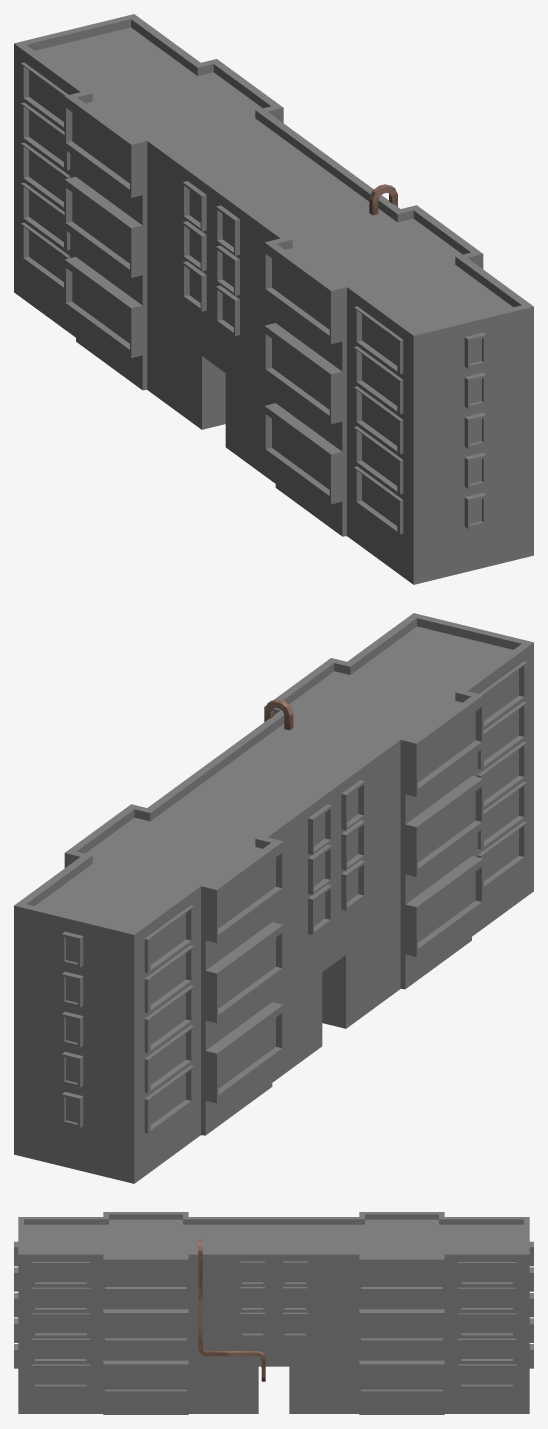
The model's file is Bloc wide.fbx.
3 renders of one model, top to bottom at view 1: azimuth 30°, elevation 25°; view 2: azimuth 150°, elevation 25°; view 3: azimuth 270°, elevation 25°, orthographic. The views are drawn at different scales.
Visible parts, largest first — view 1: Cube.003; view 2: Cube.003; view 3: Cube.003, Plane.006.
Part boxes in pixels (x1,y1,x2,y2): Cube.003: [14, 14, 533, 584]; Cube.003: [14, 613, 533, 1183]; Cube.003: [14, 1212, 533, 1414]; Plane.006: [198, 1239, 265, 1381].
Size of the model in its own units: 253 by 424 by 1170.
